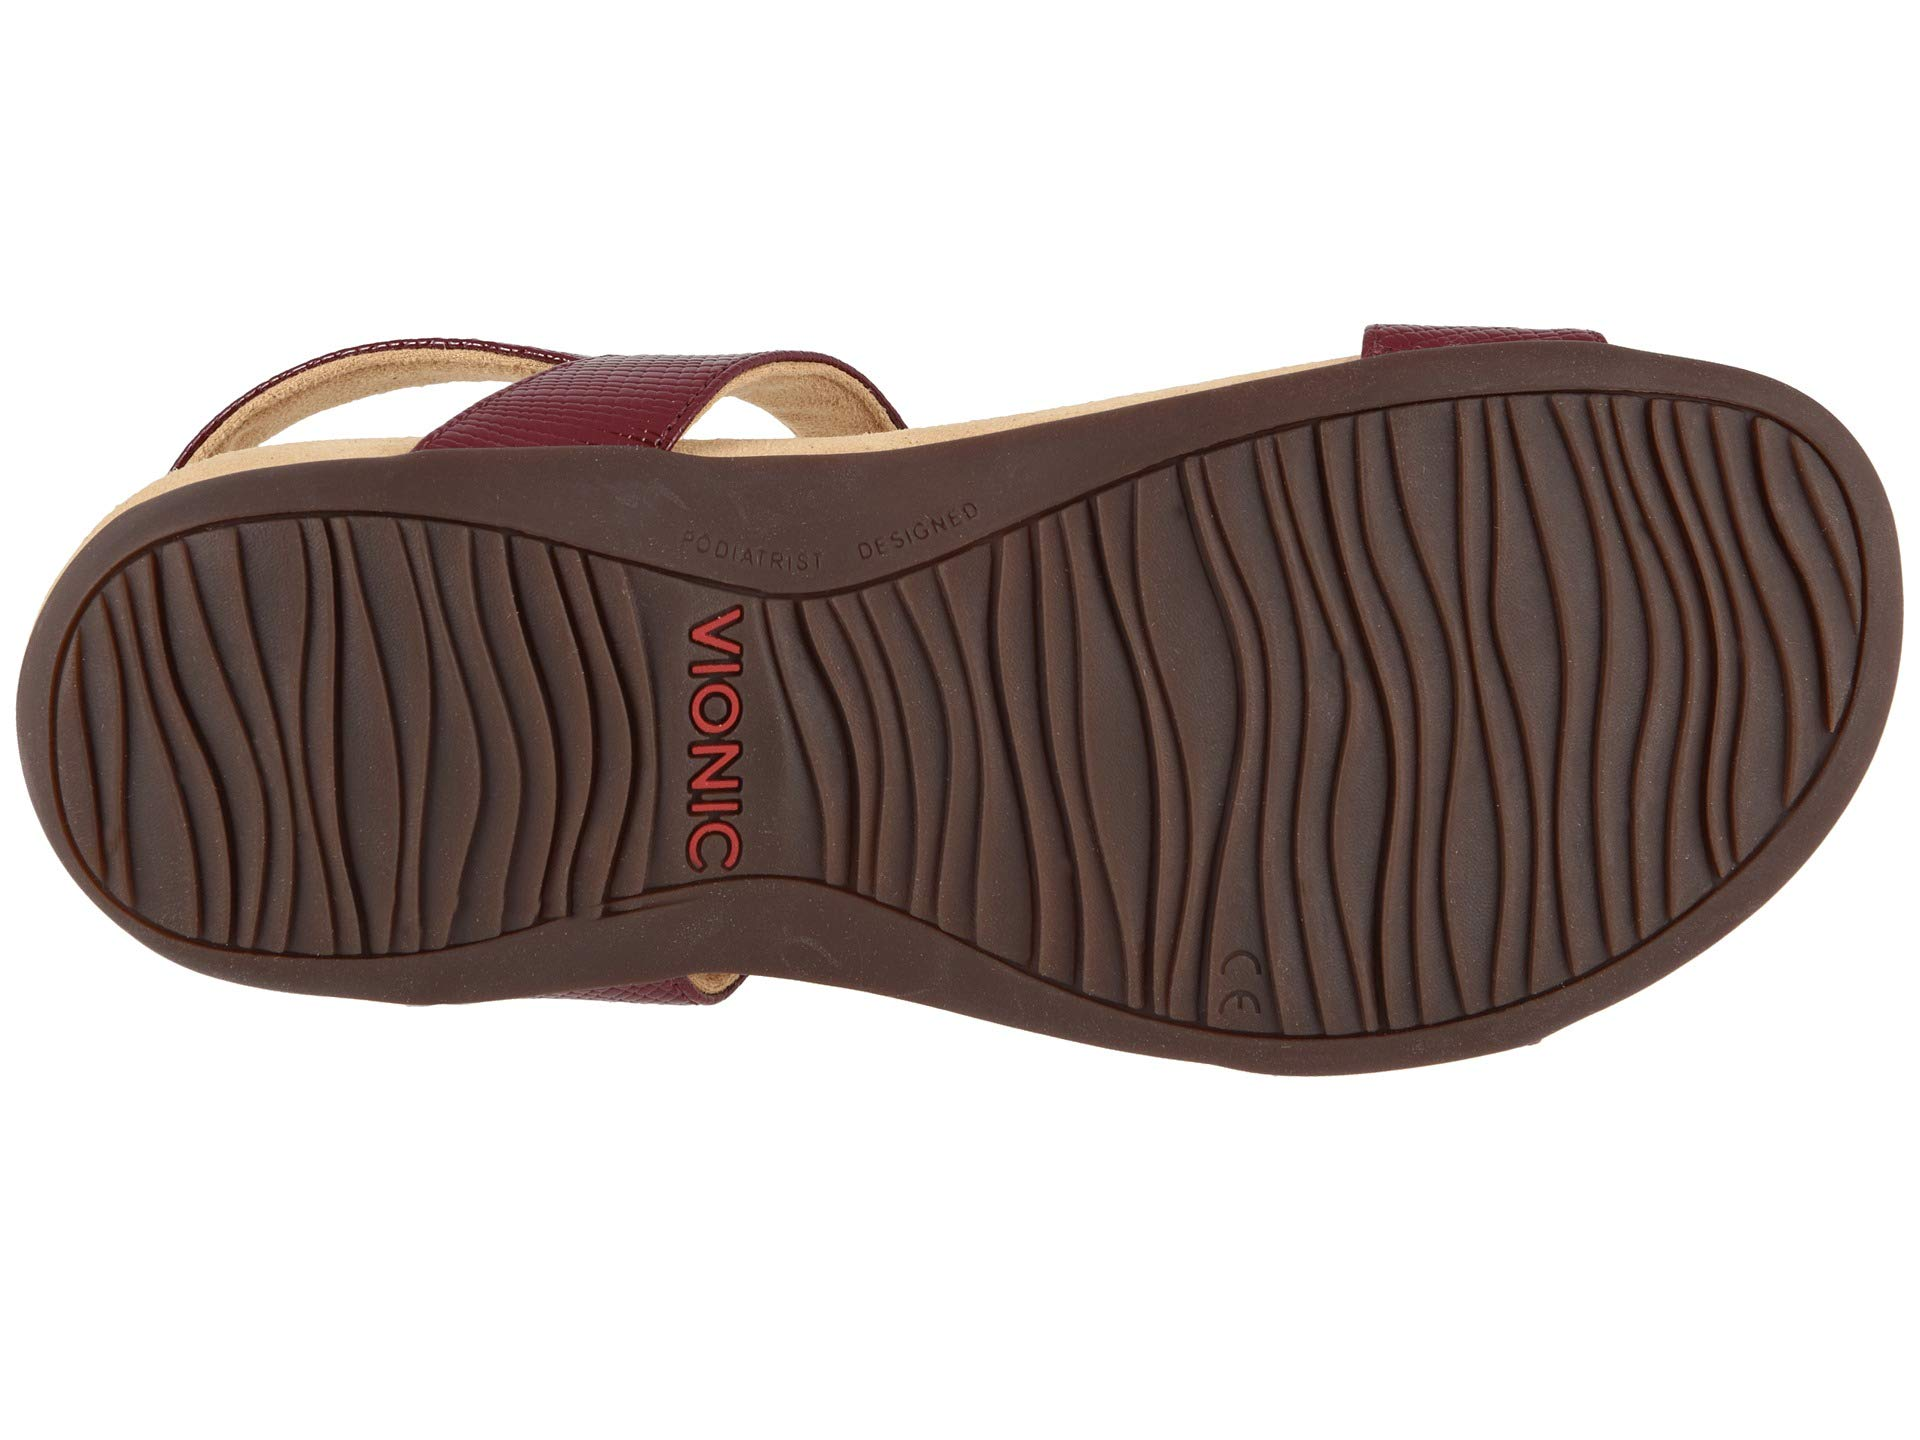circle: (552, 537, 912, 915)
line: (552, 537, 912, 915), (1143, 861, 1371, 1056), (1205, 451, 1395, 638), (1584, 417, 1773, 604)
text: (552, 537, 912, 915), (1143, 861, 1371, 1056)
